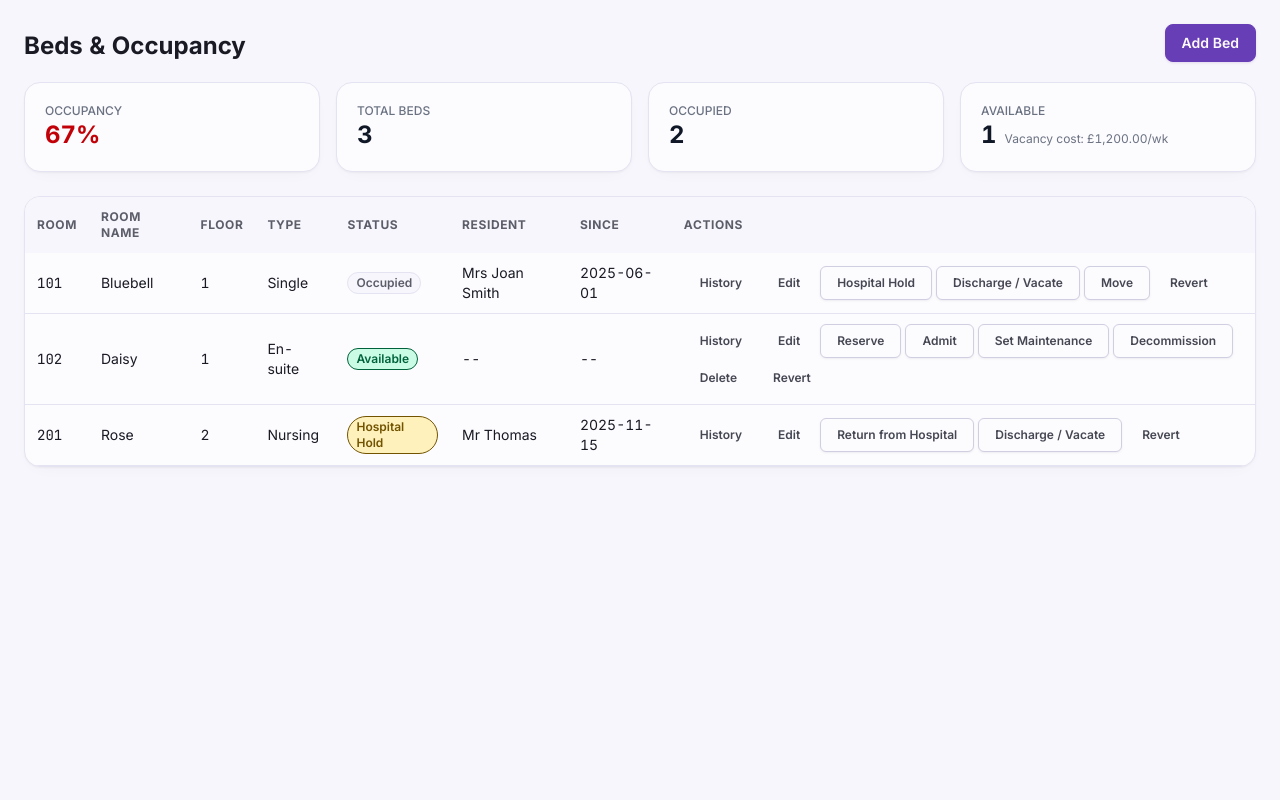
Test: BedManager › opens Add Bed modal on button click
Click the button "Add Bed": (1210,43) [1164, 24, 1256, 62]
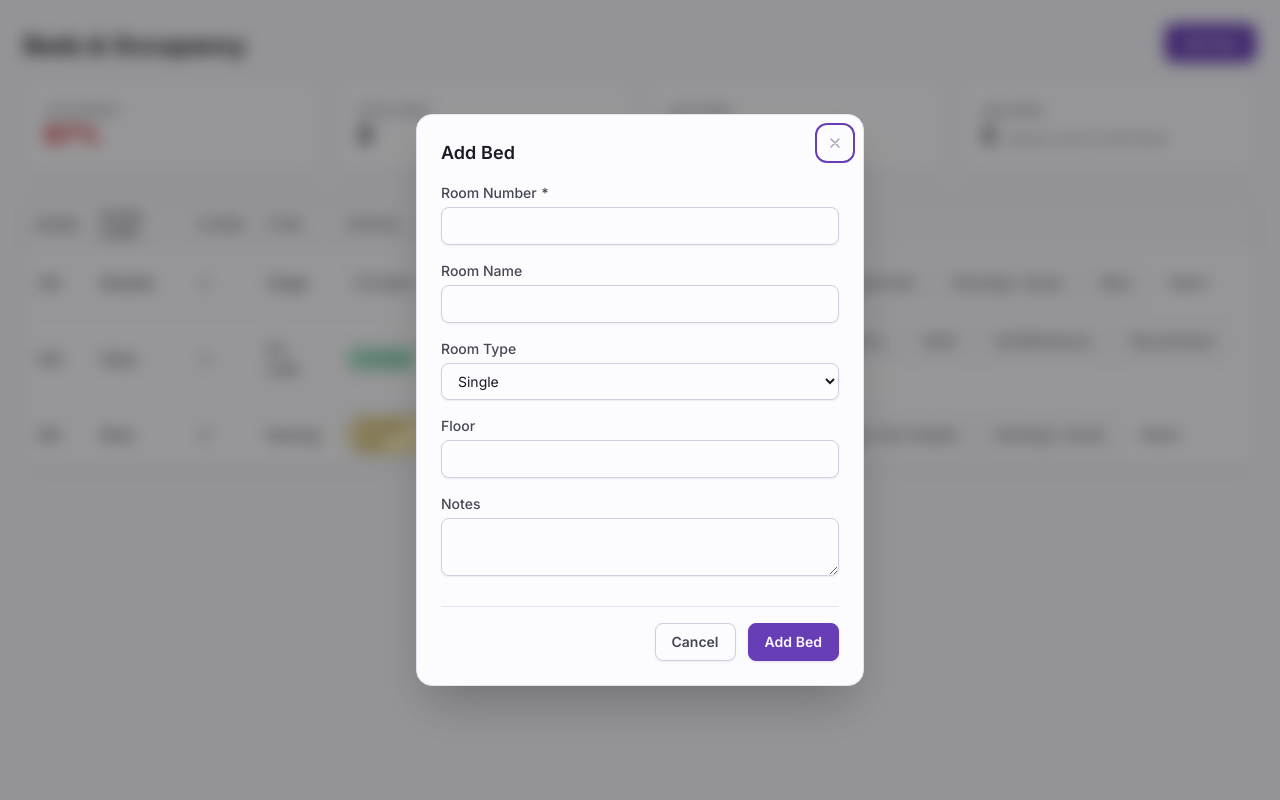
Check: the text "Room Number *" is shown, box [441, 184, 550, 201]
Check: the text "Room Type" is shown, box [441, 340, 516, 357]
